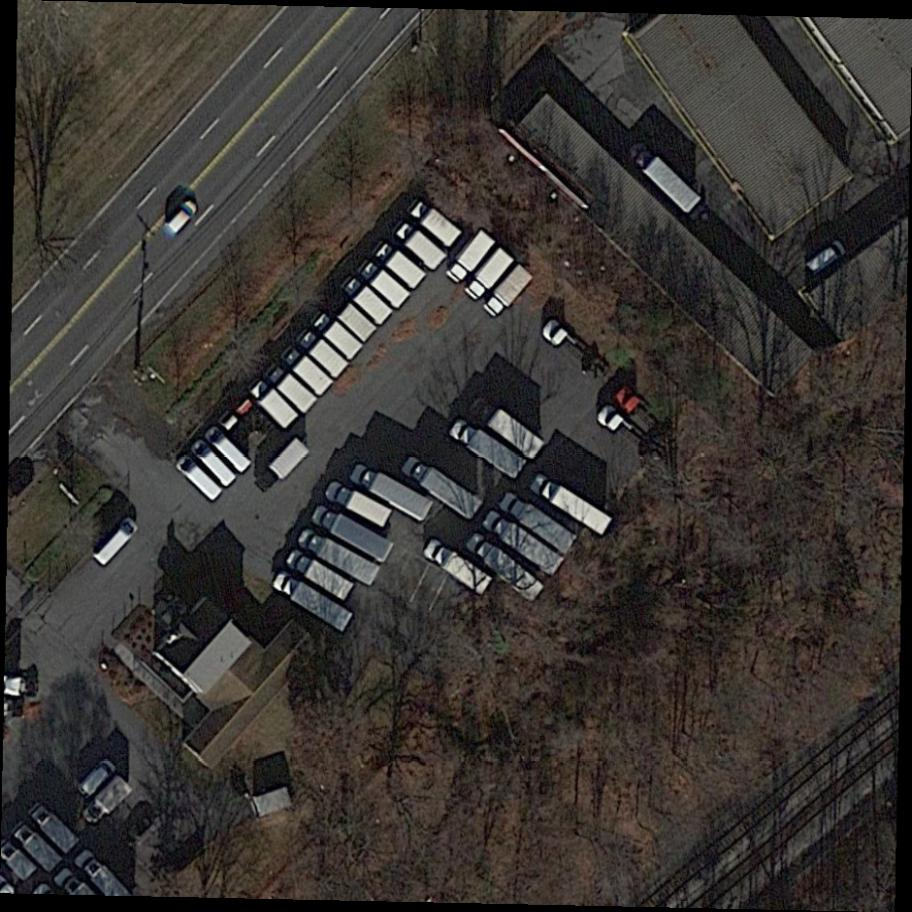large-vehicle: (622, 138, 708, 218), (526, 470, 616, 539), (464, 531, 545, 604), (402, 453, 484, 523), (483, 511, 567, 577), (497, 489, 580, 555), (270, 570, 356, 633), (348, 462, 435, 524), (297, 527, 383, 589), (311, 502, 397, 563), (449, 417, 529, 481), (469, 396, 547, 460), (422, 539, 494, 597), (286, 545, 357, 602), (324, 478, 395, 530), (6, 818, 64, 876), (78, 772, 137, 829), (481, 261, 537, 320), (24, 797, 81, 854), (280, 341, 336, 399), (357, 257, 413, 314), (89, 514, 144, 572), (264, 361, 320, 417), (407, 196, 464, 250), (248, 376, 302, 432), (340, 274, 395, 328), (392, 218, 448, 271), (445, 229, 497, 286), (172, 453, 226, 507), (464, 245, 516, 301), (188, 435, 240, 489), (311, 311, 365, 363), (371, 240, 426, 290), (299, 330, 350, 381), (206, 424, 254, 474)
small-vehicle: (800, 236, 849, 281), (73, 755, 118, 801), (161, 195, 201, 238)
